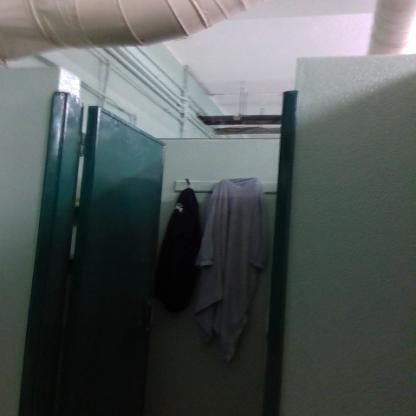open: (45, 67, 310, 408)
